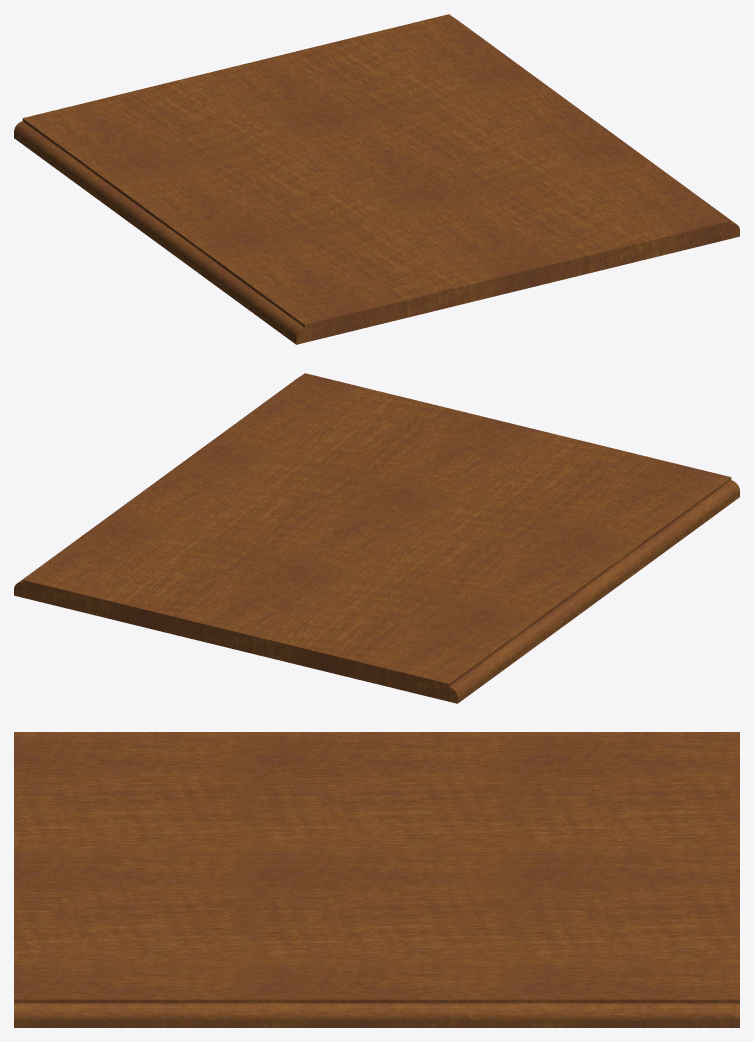
The model's file is original-17.obj.
The picture shows the model from 3 angles, top to bottom: view 1: azimuth 30°, elevation 25°; view 2: azimuth 150°, elevation 25°; view 3: azimuth 270°, elevation 25°; orthographic projection. The views are drawn at different scales.
Parts seen in each view (by area): view 1: top1/top/mesh47/mesh47-geometry#mesh47-geometry; view 2: top1/top/mesh47/mesh47-geometry#mesh47-geometry; view 3: top1/top/mesh47/mesh47-geometry#mesh47-geometry.
Boxes of the visible parts, x1,y1,x2,y2 form: top1/top/mesh47/mesh47-geometry#mesh47-geometry: (14,14,739,344); top1/top/mesh47/mesh47-geometry#mesh47-geometry: (14,373,739,703); top1/top/mesh47/mesh47-geometry#mesh47-geometry: (14,732,739,1027).
Bounding box in the file's own units: 0.7435 × 0.0286 × 0.8197.
Materials: 2 (2 with a texture image).
